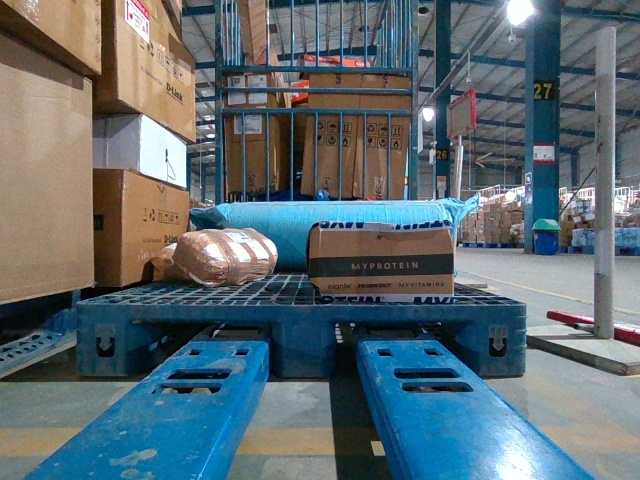block: (460, 302, 529, 380), (74, 299, 137, 377), (274, 305, 338, 376)
front: (74, 301, 526, 380)
hole pallet: (127, 319, 282, 379), (332, 321, 468, 378)
